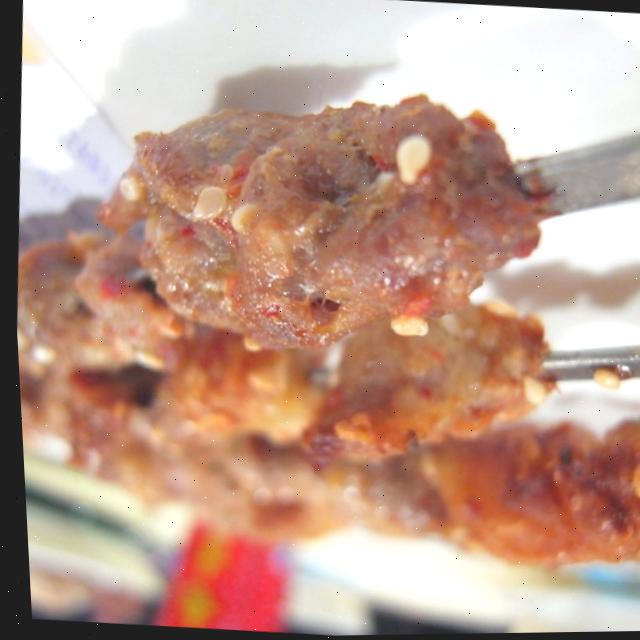烧串烤肉: (2, 33, 640, 639)
